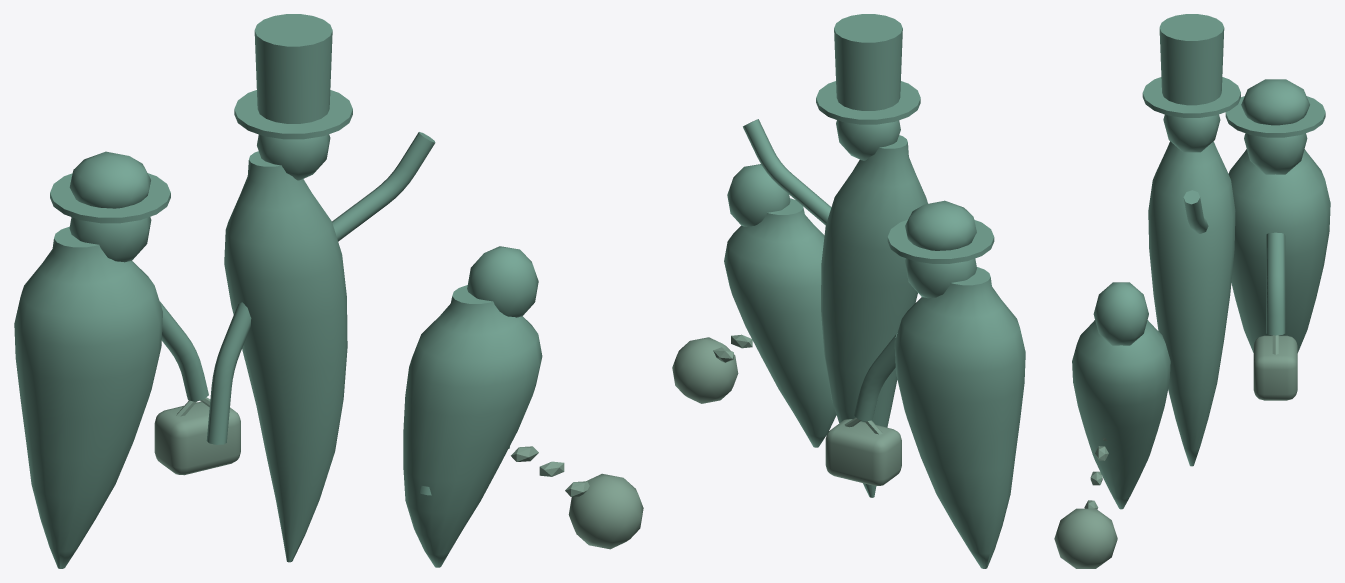
File: haunt_ghost.fbx
The picture shows the model from 3 angles, left to right: view 1: azimuth 30°, elevation 25°; view 2: azimuth 150°, elevation 25°; view 3: azimuth 270°, elevation 25°; orthographic projection. The views are drawn at different scales.
Parts seen in each view (by area): view 1: ghost_1, ghostdim_1; view 2: ghost_1, ghostdim_1; view 3: ghost_1, ghostdim_1.
Part boxes in pixels (<box>): ghost_1: <box>14,14,542,568</box>; ghostdim_1: <box>154,397,643,549</box>; ghost_1: <box>724,14,1025,568</box>; ghostdim_1: <box>672,334,901,486</box>; ghost_1: <box>1072,14,1330,509</box>; ghostdim_1: <box>1054,335,1297,568</box>.
Size of the model in its own units: 1.09 by 1.1 by 0.6267.
